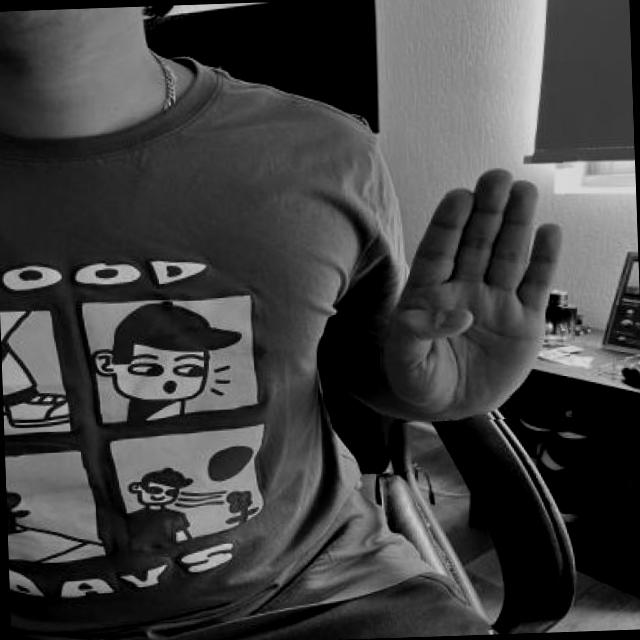B: (372, 156, 572, 423)
